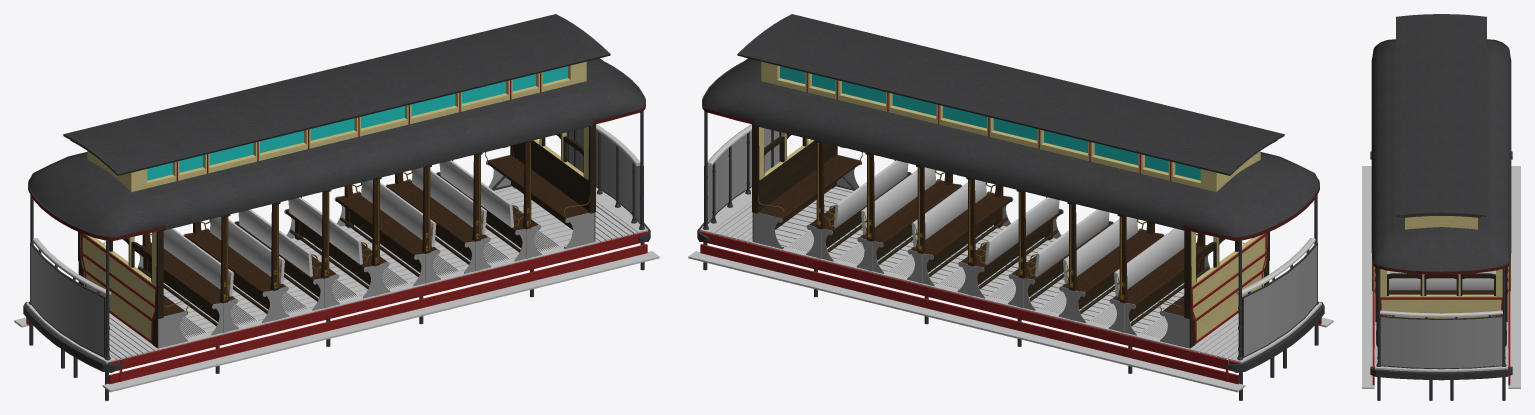
Rendered from Bonde.FBX.fbx.
3 views of the same model, side by side, from view 1: azimuth 30°, elevation 25°; view 2: azimuth 150°, elevation 25°; view 3: azimuth 270°, elevation 25° (orthographic). The views are drawn at different scales.
Parts seen in each view (by area): view 1: Bonde; view 2: Bonde; view 3: Bonde.
Boxes of the visible parts, <box> form: Bonde: <box>14,14,659,400</box>; Bonde: <box>688,14,1333,400</box>; Bonde: <box>1362,14,1520,400</box>.
Bounding box in the file's own units: 398 × 144 × 116.
